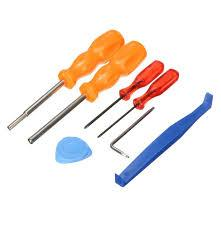screwdriver: (26, 39, 146, 144), (6, 28, 122, 130), (82, 59, 164, 129), (96, 68, 179, 137), (109, 105, 154, 158)
